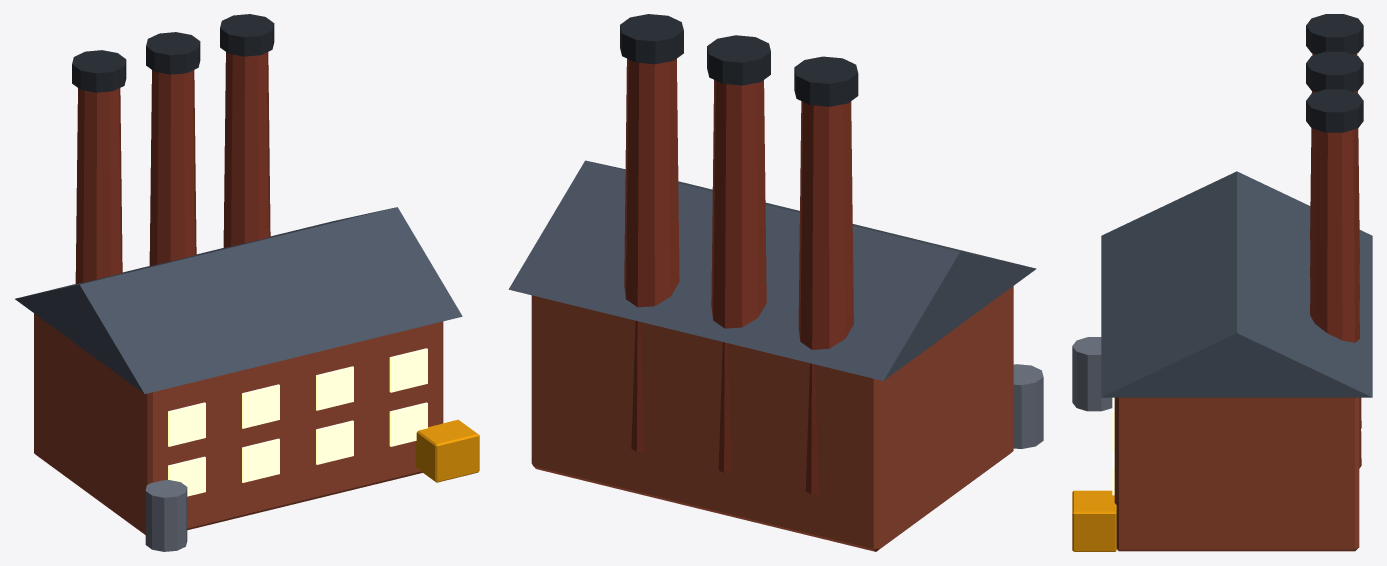
The model's file is fe-factory-LJ9_dNXQ.glb.
3 renders of one model, left to right at view 1: azimuth 30°, elevation 25°; view 2: azimuth 150°, elevation 25°; view 3: azimuth 270°, elevation 25°, orthographic. The views are drawn at different scales.
Parts seen in each view (by area): view 1: Cube; view 2: Cube; view 3: Cube.
Boxes of the visible parts, bbox=[...] form: Cube: bbox=[15, 14, 479, 551]; Cube: bbox=[508, 14, 1043, 551]; Cube: bbox=[1072, 14, 1372, 551].
Size of the model in its own units: 0.87 by 1.01 by 0.6749.
